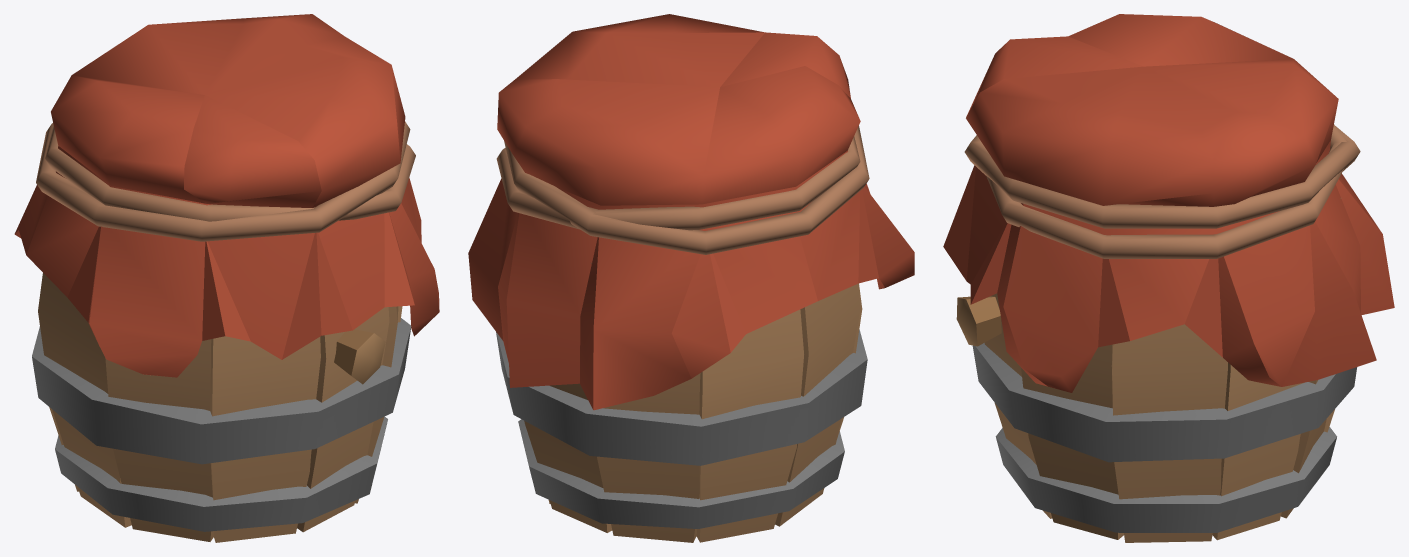
File: Barrel_G.fbx
3 views of the same model, side by side, from view 1: azimuth 30°, elevation 25°; view 2: azimuth 150°, elevation 25°; view 3: azimuth 270°, elevation 25° (orthographic). The views are drawn at different scales.
Parts seen in each view (by area): view 1: Barrel_G; view 2: Barrel_G; view 3: Barrel_G.
Part boxes in pixels (x1,y1,x2,y2): Barrel_G: [14, 14, 439, 542]; Barrel_G: [468, 14, 914, 542]; Barrel_G: [943, 14, 1394, 542].
Size of the model in its own units: 86.72 by 94.4 by 92.28.
